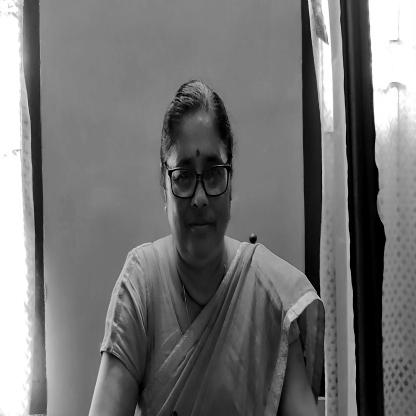Normal: (160, 76, 239, 273)
